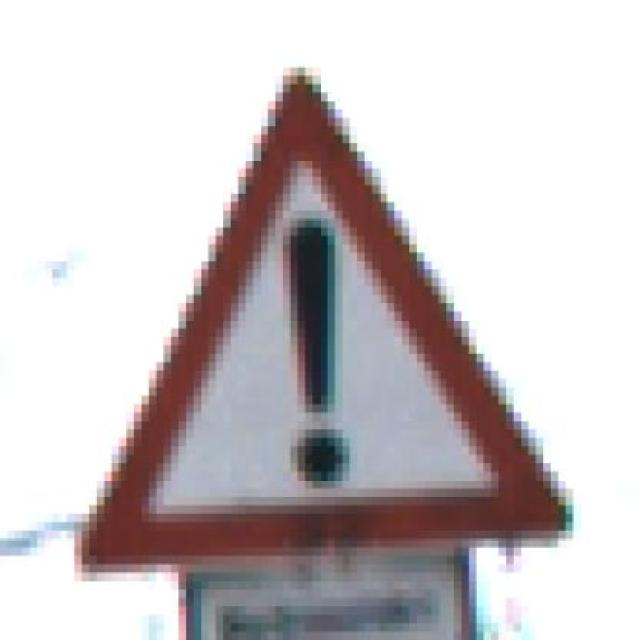Attention Please-: (44, 75, 573, 572)
